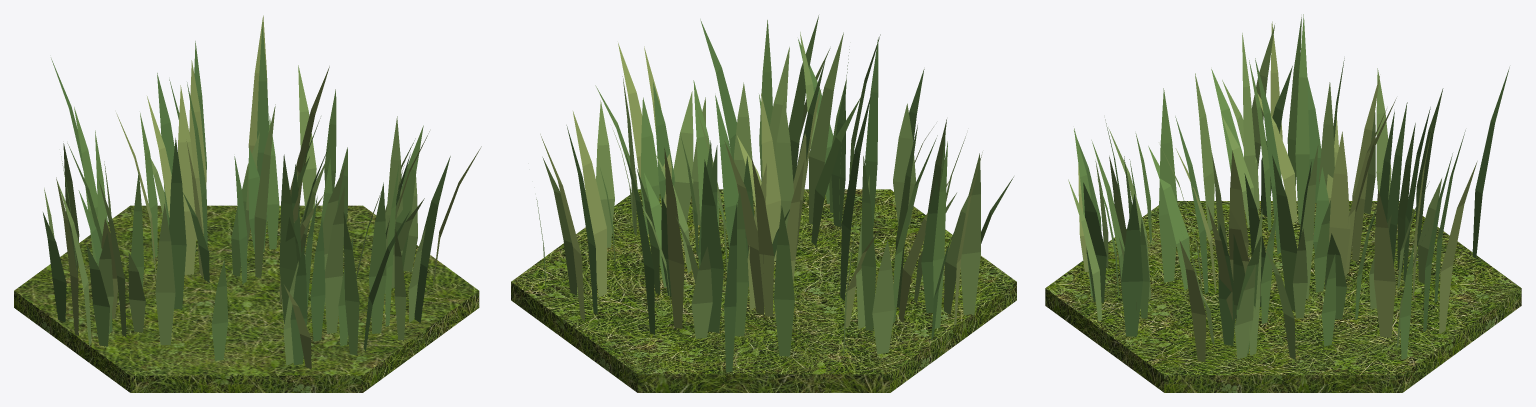
The model's file is tall-grass-v01.glb.
The picture shows the model from 3 angles, left to right: view 1: azimuth 30°, elevation 25°; view 2: azimuth 150°, elevation 25°; view 3: azimuth 270°, elevation 25°; orthographic projection. The views are drawn at different scales.
Parts seen in each view (by area): view 1: tall-grass-hex-v01; view 2: tall-grass-hex-v01; view 3: tall-grass-hex-v01.
Boxes of the visible parts, <box> form: tall-grass-hex-v01: <box>14,15,481,392</box>; tall-grass-hex-v01: <box>511,15,1016,392</box>; tall-grass-hex-v01: <box>1045,14,1521,392</box>.
Bounding box in the file's own units: 1.74 × 0.8842 × 1.84.
5 materials, 1 textured.
